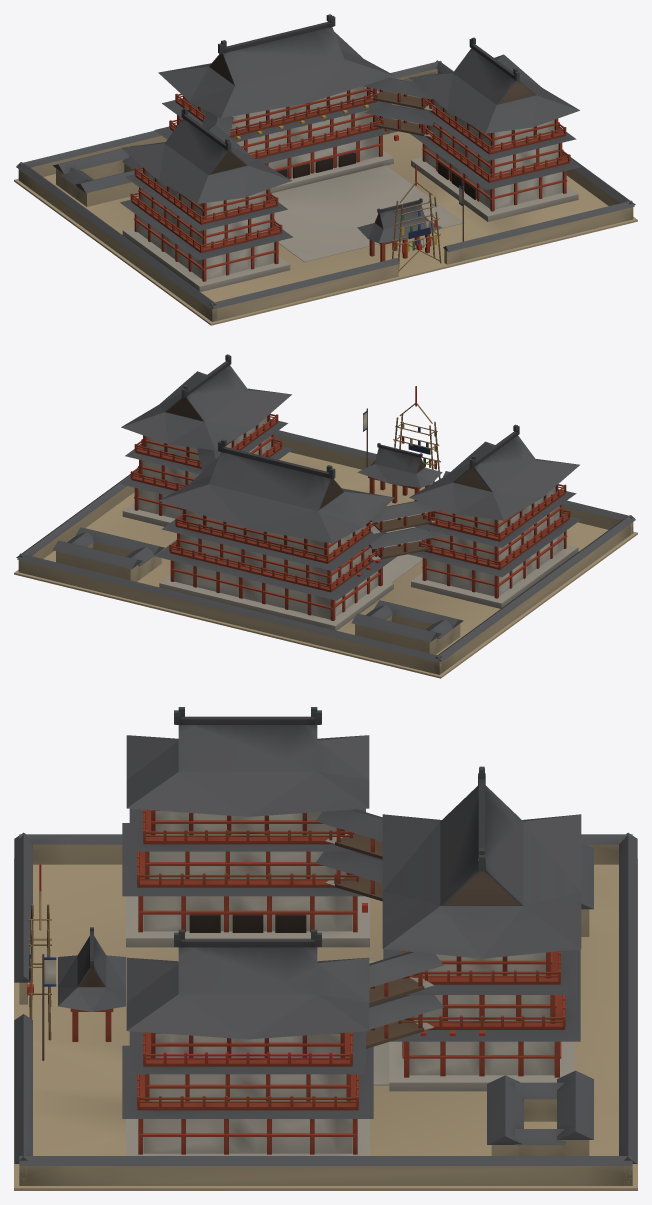
Rendered from fan-tower.glb.
3 views of the same model, one above another, from view 1: azimuth 30°, elevation 25°; view 2: azimuth 150°, elevation 25°; view 3: azimuth 270°, elevation 25° (orthographic). The views are drawn at different scales.
Parts seen in each view (by area): view 1: p2_caimen, p0_court, p1_front; view 2: p1_front, p2_caimen, p0_court; view 3: p2_caimen, p0_court, p1_front.
Part boxes in pixels (box(x1,y1,x2,y2)): p2_caimen: box(120, 14, 581, 272); p0_court: box(14, 60, 637, 325); p1_front: box(52, 72, 578, 291); p1_front: box(52, 413, 578, 654); p2_caimen: box(120, 354, 581, 600); p0_court: box(14, 430, 637, 678); p2_caimen: box(27, 707, 581, 1118); p0_court: box(14, 832, 637, 1190); p1_front: box(58, 809, 593, 1155).
Size of the model in its own units: 80 by 24.58 by 64.
